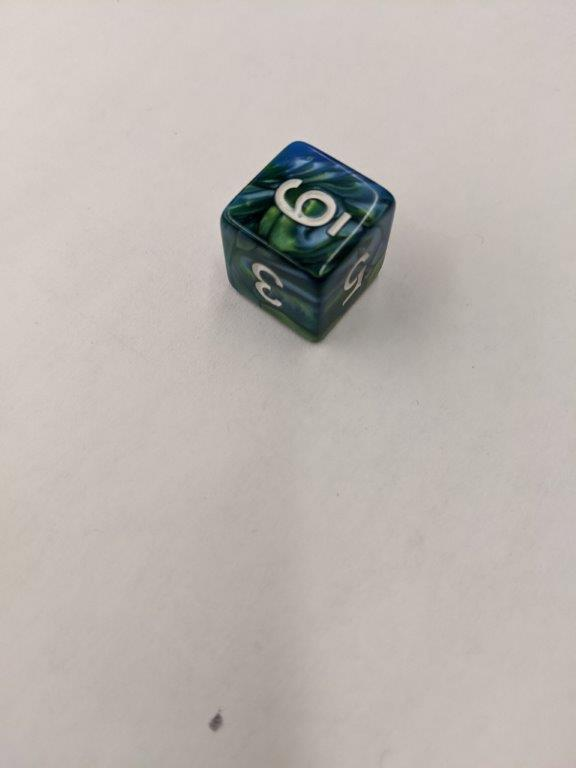d6-6: (221, 140, 397, 342)
